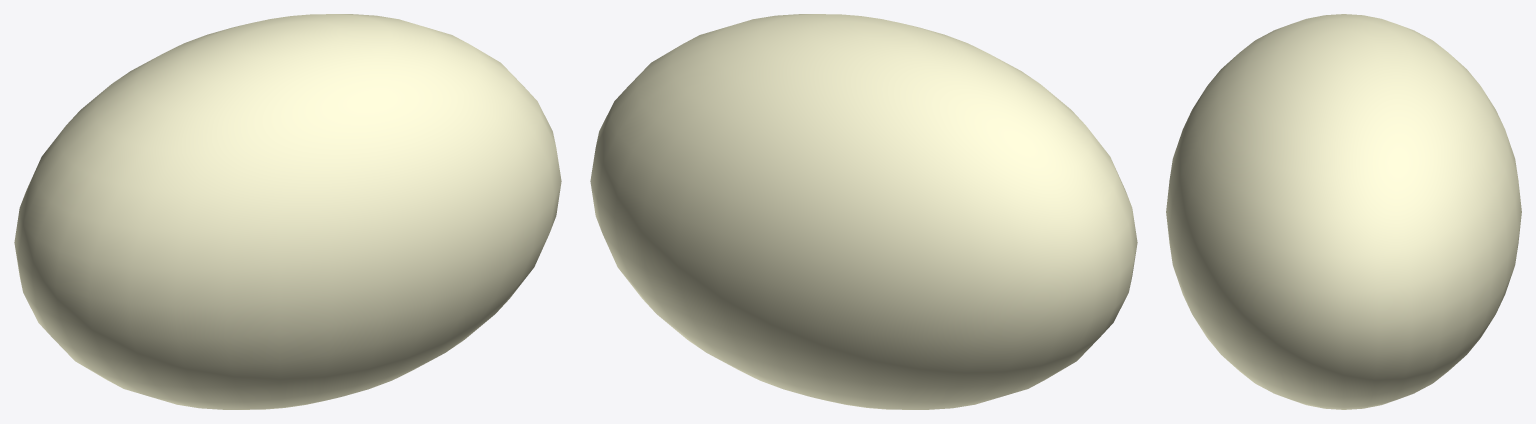
3 renders of one model, left to right at view 1: azimuth 30°, elevation 25°; view 2: azimuth 150°, elevation 25°; view 3: azimuth 270°, elevation 25°, orthographic. The views are drawn at different scales.
Visible parts, largest first — view 1: item; view 2: item; view 3: item.
Boxes of the visible parts, box(x1,y1,x2,y2) form: item: box(14, 14, 561, 409); item: box(590, 14, 1137, 409); item: box(1166, 14, 1521, 409).
Size of the model in its own units: 0.0124 by 0.00812 by 0.00812.
